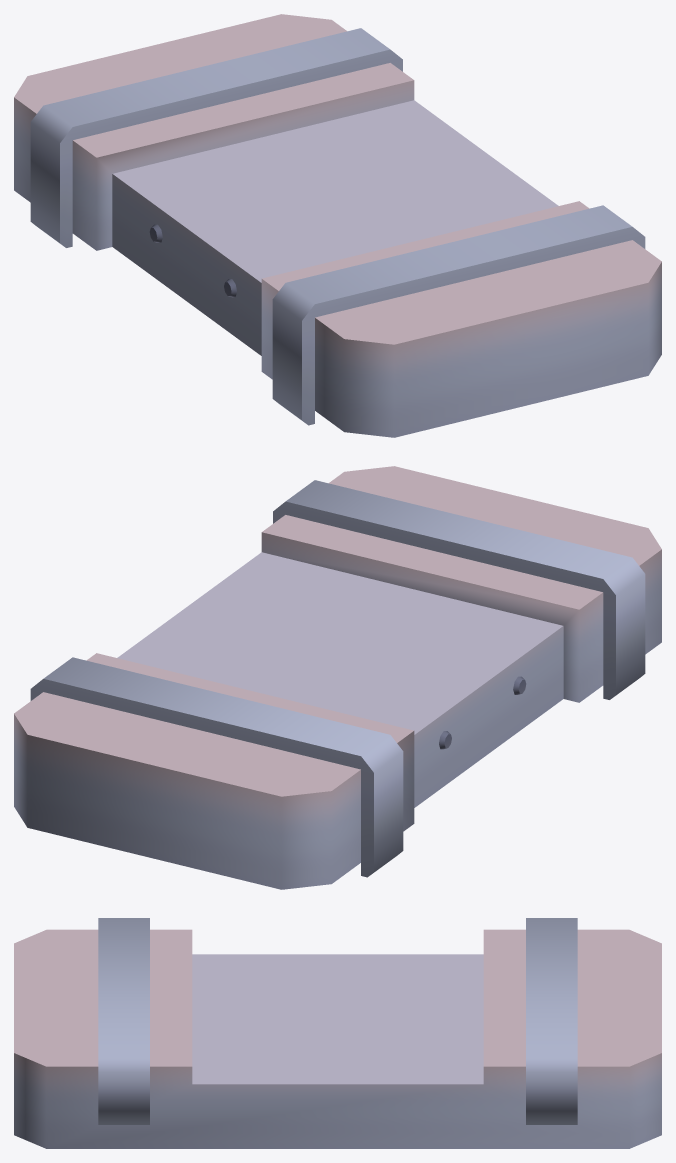
The picture shows the model from 3 angles, top to bottom: view 1: azimuth 30°, elevation 25°; view 2: azimuth 150°, elevation 25°; view 3: azimuth 270°, elevation 25°; orthographic projection. The views are drawn at different scales.
Visible parts, largest first — view 1: lid; view 2: lid; view 3: lid.
Boxes of the visible parts, x1=… form: lid: x1=14, y1=14, x2=661, y2=437; lid: x1=14, y1=466, x2=661, y2=889; lid: x1=14, y1=918, x2=661, y2=1148.
Size of the model in its own units: 0.486 by 0.1619 by 0.9.
Materials: 1 (1 with a texture image).
